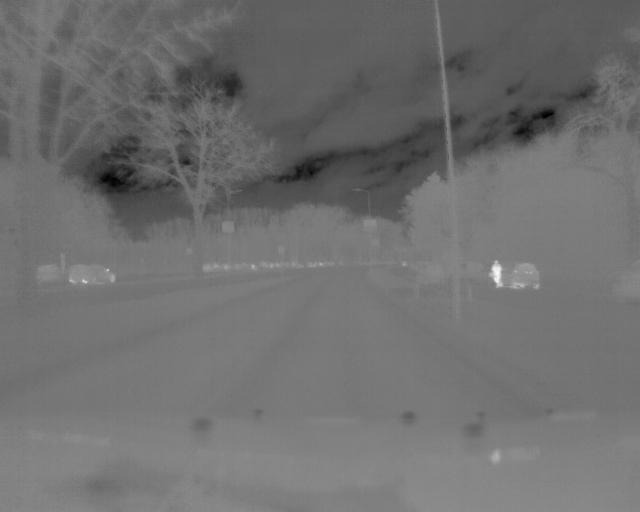car: (500, 261, 542, 290), (69, 262, 118, 286)
person: (486, 257, 504, 293)
